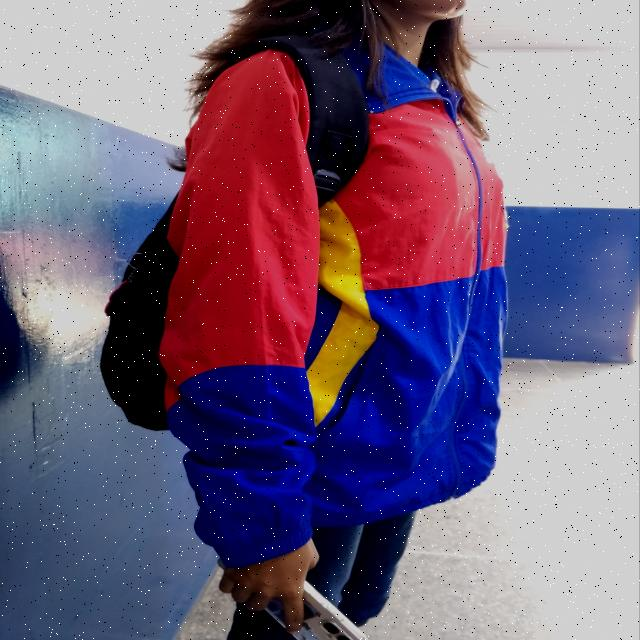chaqueta_unefa: (153, 19, 513, 572)
